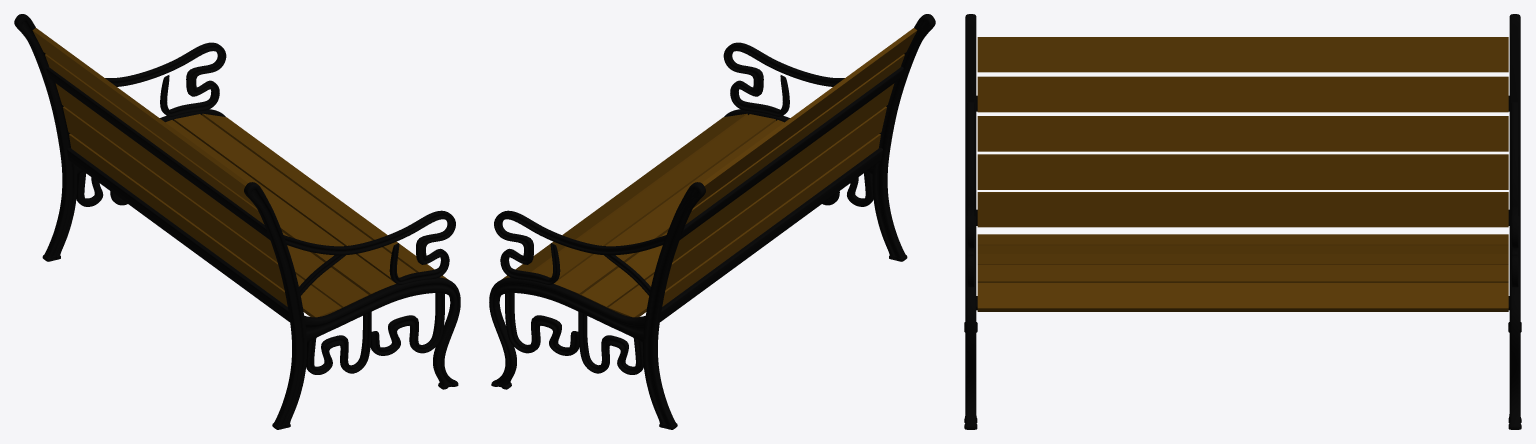
Rendered from Bench#3.fbx.
The picture shows the model from 3 angles, left to right: view 1: azimuth 30°, elevation 25°; view 2: azimuth 150°, elevation 25°; view 3: azimuth 270°, elevation 25°; orthographic projection. The views are drawn at different scales.
Visible parts, largest first — view 1: Woods1; view 2: Woods1; view 3: Woods1.
Boxes of the visible parts, left/top/right/bottom form: Woods1: left=14, top=14, right=460, bottom=429; Woods1: left=489, top=14, right=935, bottom=429; Woods1: left=964, top=14, right=1521, bottom=429.
Bounding box in the file's own units: 3.47 × 3.88 × 6.6.
